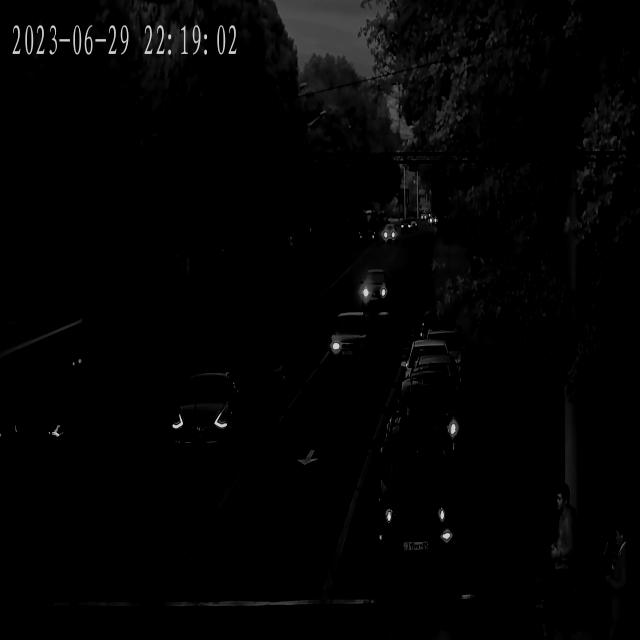Bus: (0, 312, 91, 566)
Car: (375, 434, 456, 580), (165, 370, 246, 460), (386, 371, 464, 462), (402, 362, 465, 421), (326, 314, 376, 372), (401, 338, 458, 388), (421, 329, 469, 374), (357, 273, 389, 311), (380, 227, 397, 244)
